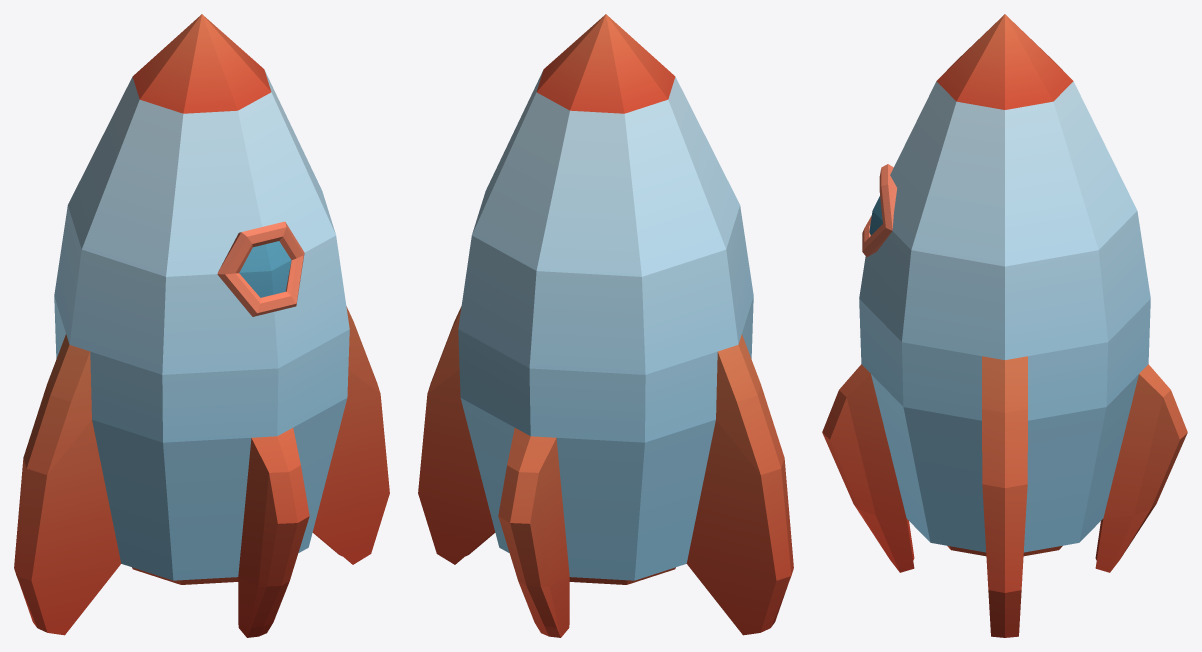
The model's file is Rocket.gltf.
3 views of the same model, side by side, from view 1: azimuth 30°, elevation 25°; view 2: azimuth 150°, elevation 25°; view 3: azimuth 270°, elevation 25° (orthographic). The views are drawn at different scales.
Parts seen in each view (by area): view 1: Rocket; view 2: Rocket; view 3: Rocket.
Part boxes in pixels (x1,y1,x2,y2): Rocket: [14, 14, 389, 637]; Rocket: [418, 14, 793, 637]; Rocket: [822, 14, 1187, 637].
Size of the model in its own units: 2.17 by 3.25 by 1.94.
